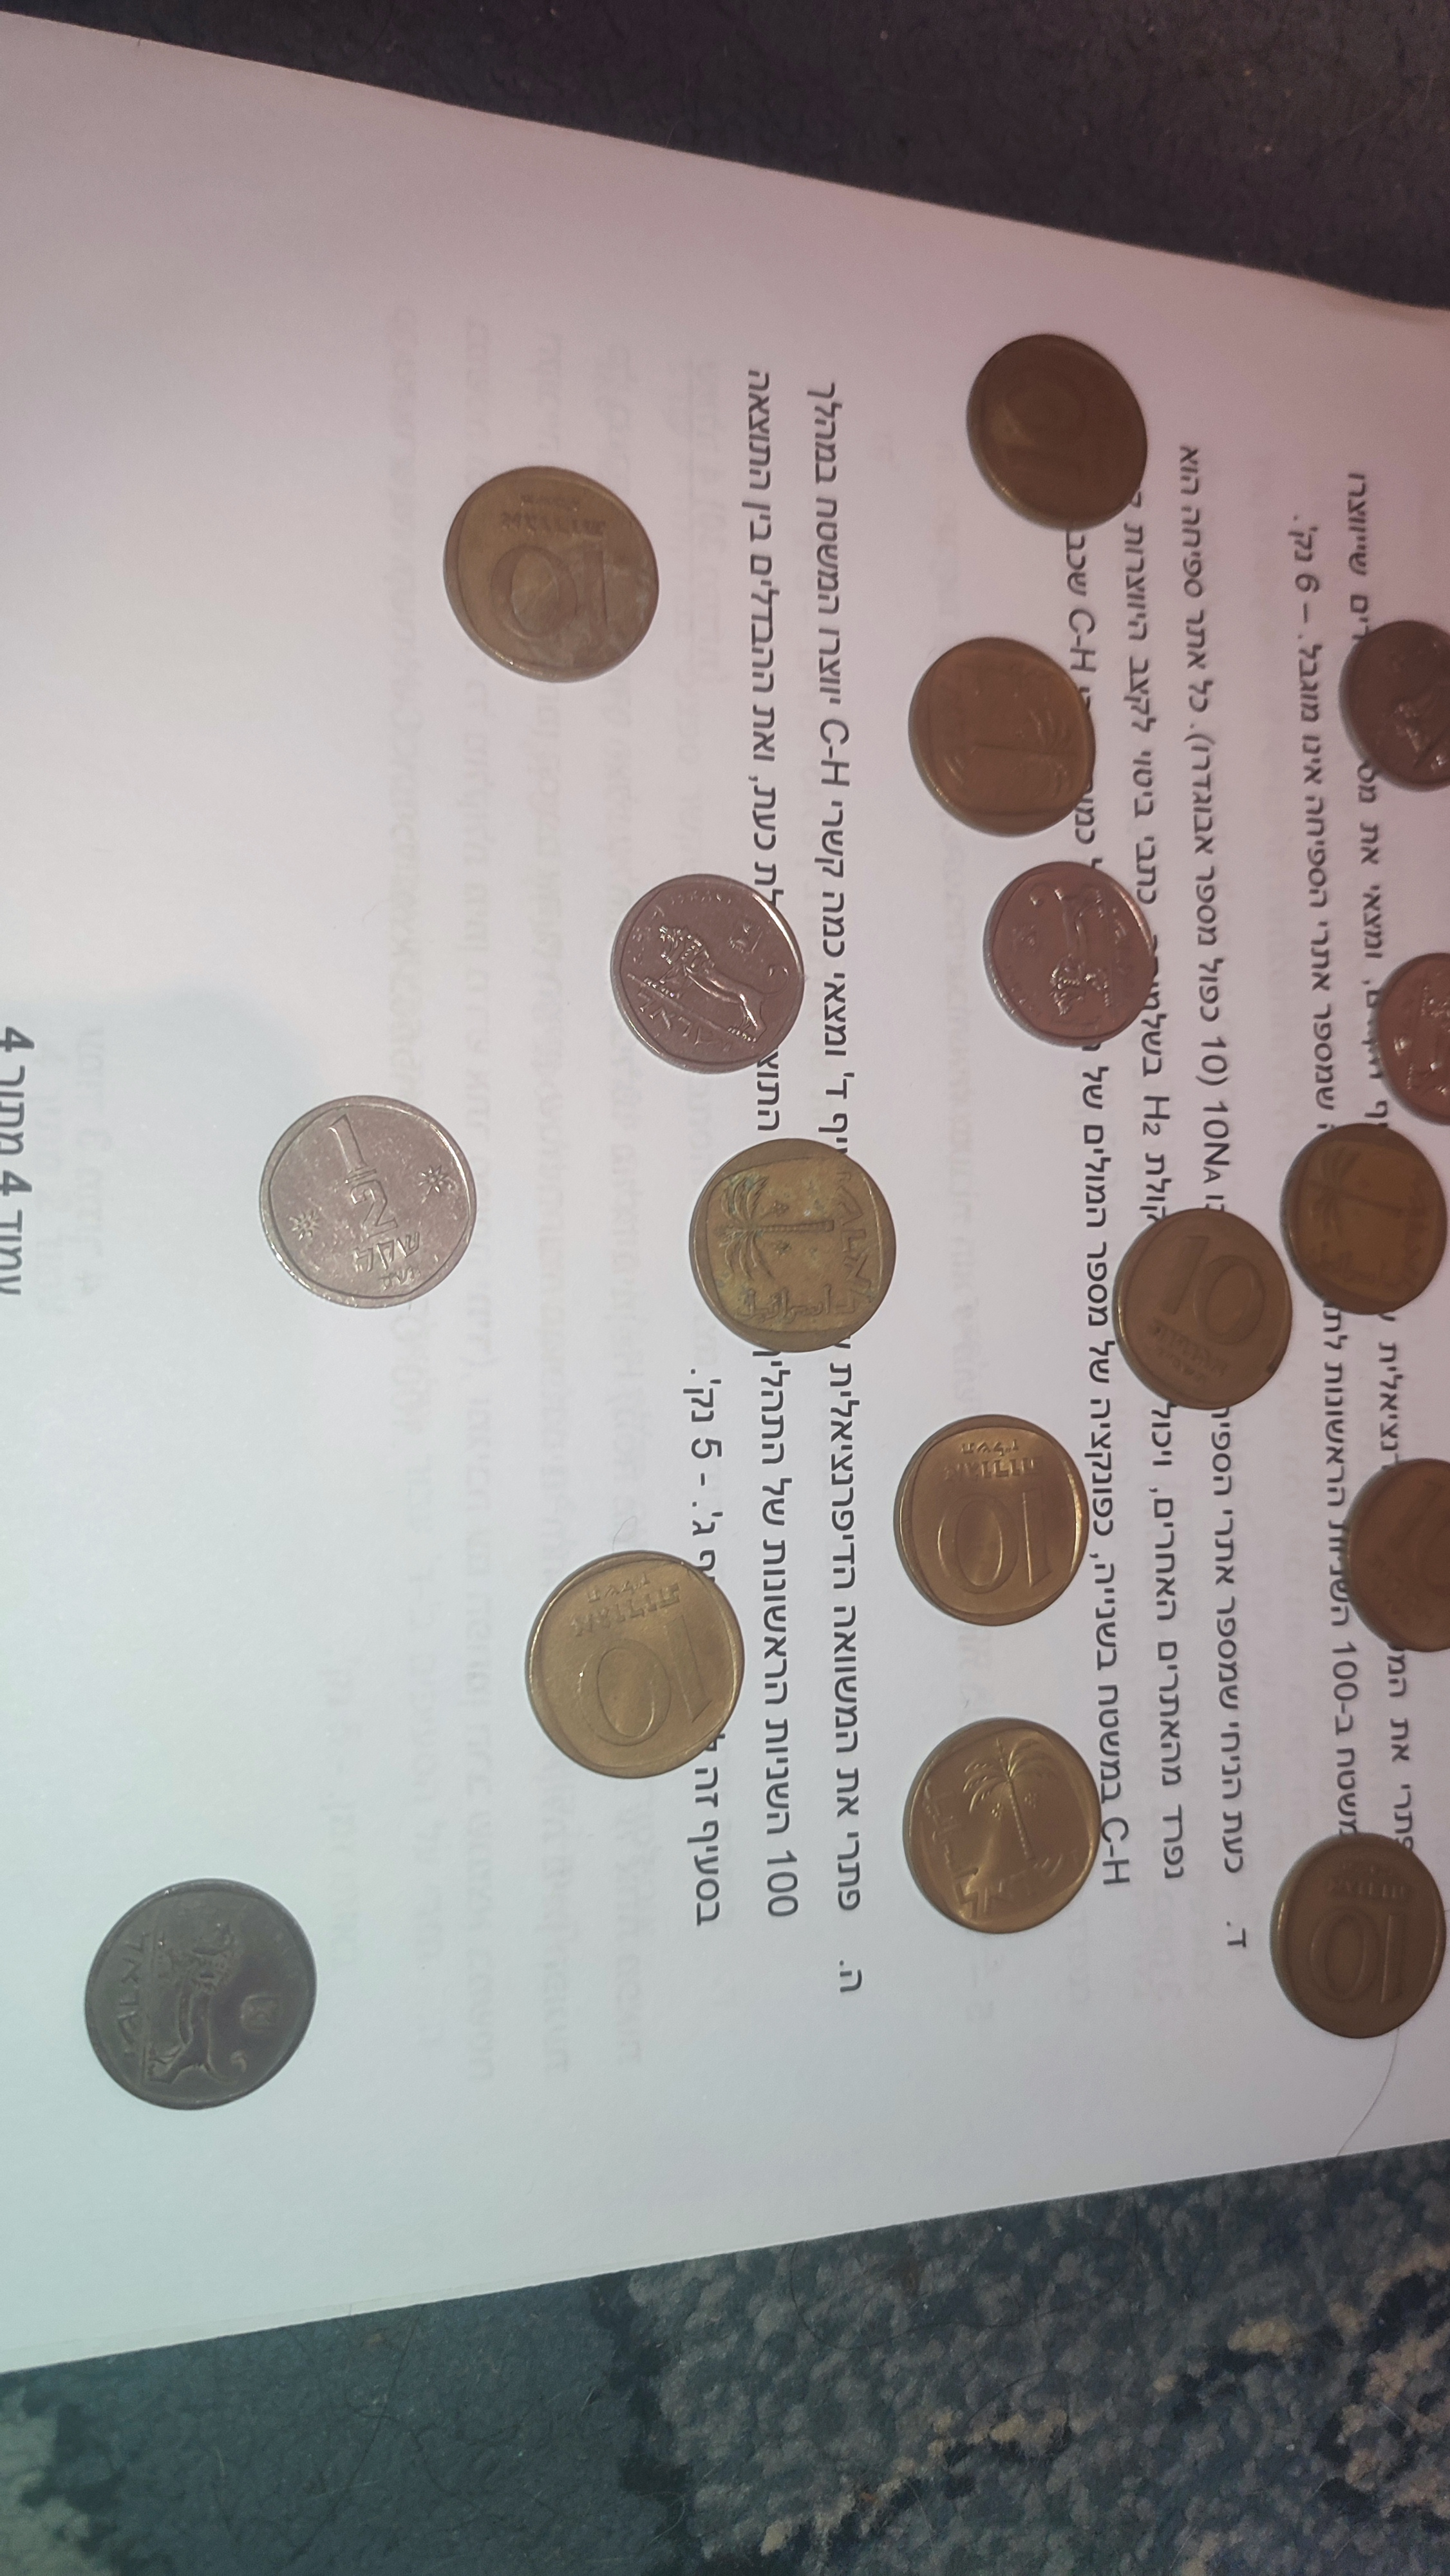1/2 old sheqel: (80, 1875, 320, 2114), (255, 1093, 479, 1311), (607, 870, 808, 1076), (980, 858, 1158, 1049), (1337, 617, 1450, 796), (1369, 950, 1450, 1129)
10 old agora brown: (520, 1545, 750, 1785), (440, 464, 665, 686), (684, 1134, 900, 1357), (898, 1713, 1109, 1939), (888, 1410, 1093, 1629), (1107, 1205, 1301, 1415), (907, 633, 1103, 840), (1264, 1829, 1450, 2043), (960, 329, 1151, 534), (1278, 1120, 1450, 1320)
